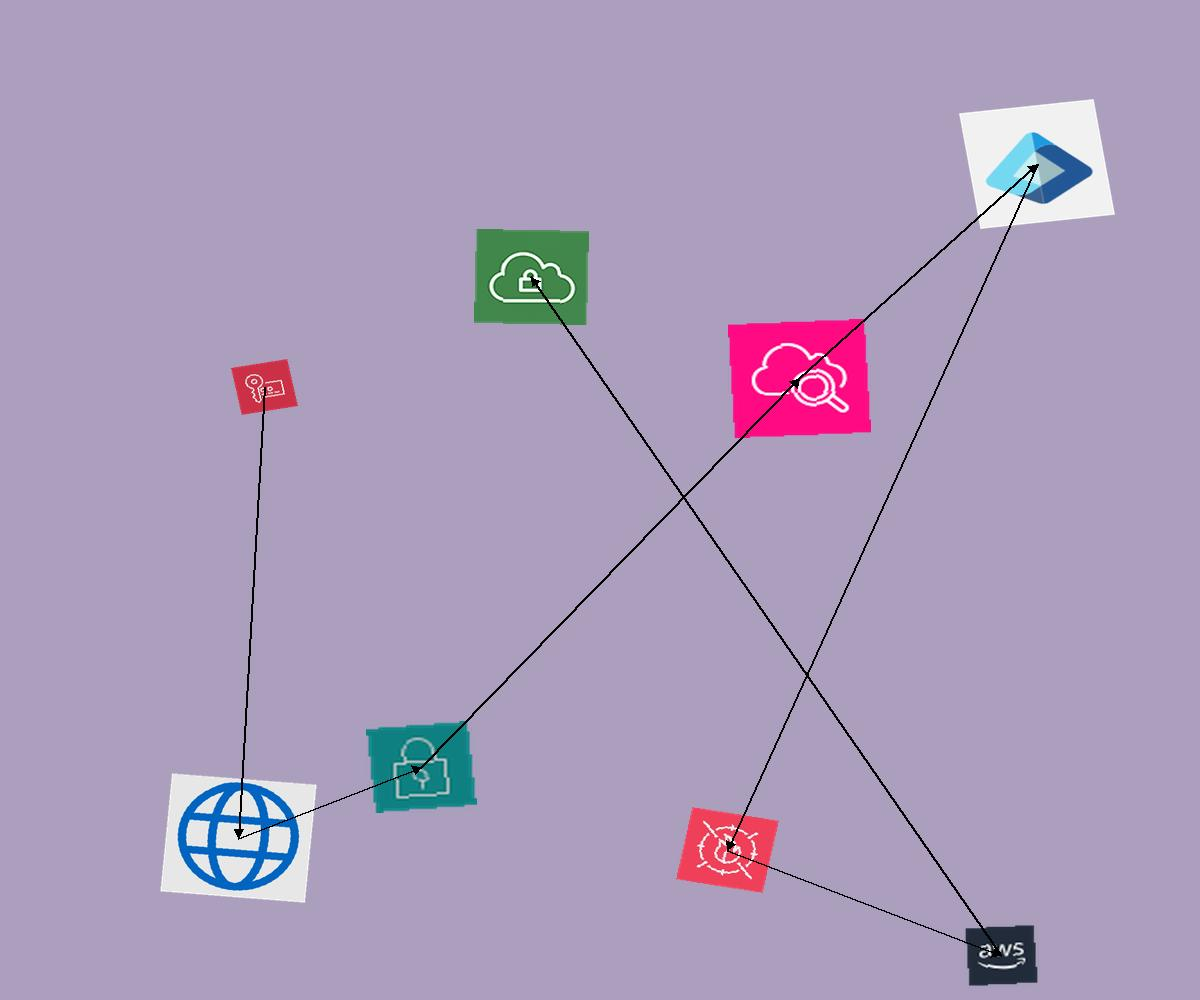AWS-Cloud-logo: (964, 924, 1039, 987)
AWS-CloudWatch: (728, 319, 871, 438)
AWS-Key-Management-Service: (231, 359, 298, 415)
AWS-Private-subnet: (366, 721, 477, 813)
AWS-Private_vpc: (474, 229, 589, 325)
AWS-WAF: (676, 807, 779, 893)
Azure_http: (160, 773, 317, 903)
Azure_microsoft_entra: (959, 99, 1115, 229)
